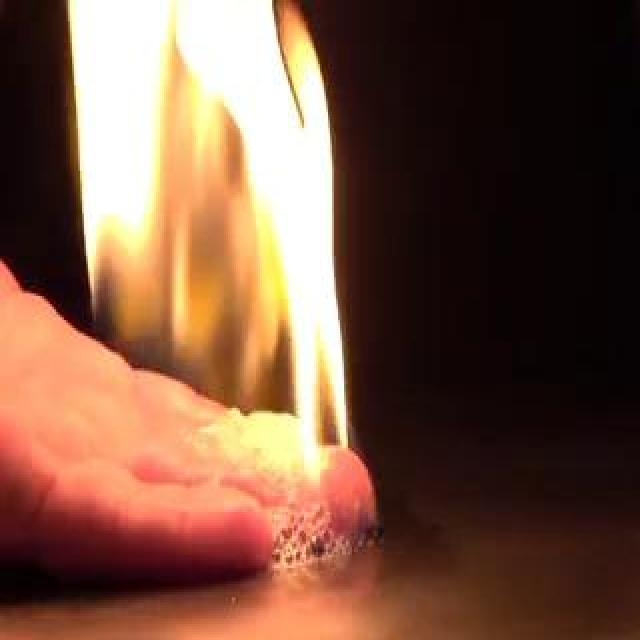Fire: (213, 260, 284, 514)
